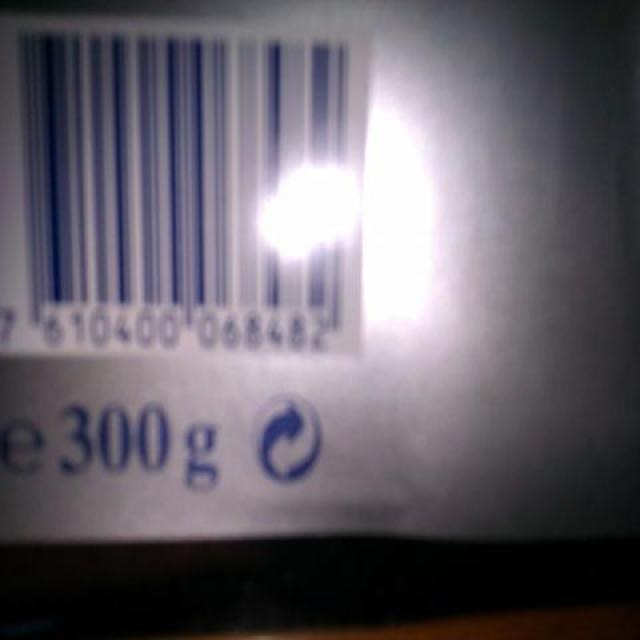Barcode: (5, 18, 375, 359)
